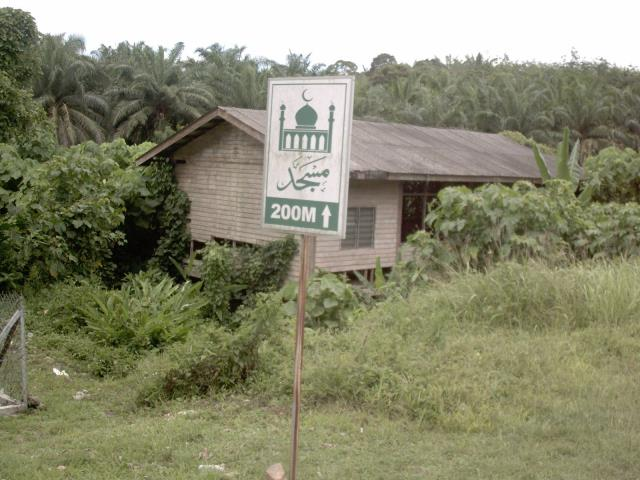ads_sign: (253, 64, 358, 245)
